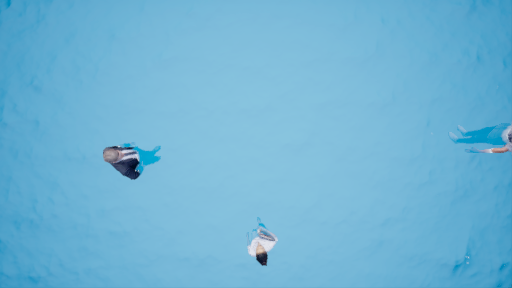person: (100, 139, 168, 179), (241, 219, 282, 267)
